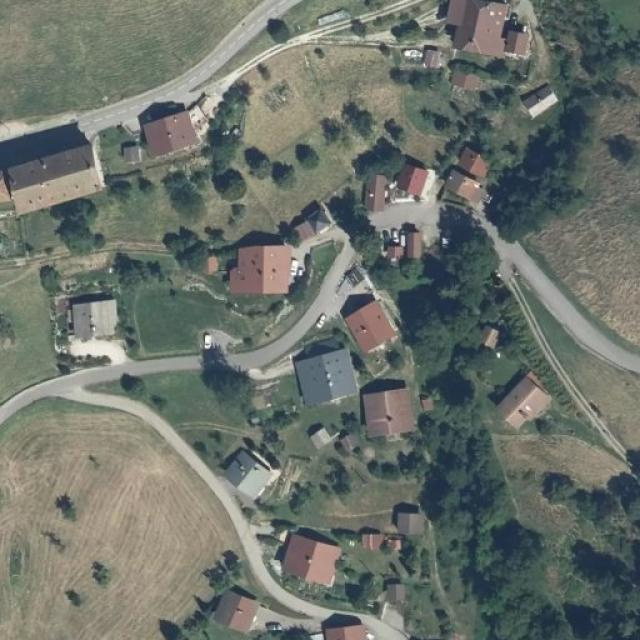immeuble: (0, 133, 113, 219)
maison: (425, 0, 543, 70), (224, 232, 300, 298), (292, 340, 358, 408), (216, 440, 281, 502), (490, 369, 550, 434), (62, 289, 128, 345), (328, 300, 398, 352), (136, 106, 203, 159), (359, 380, 417, 439), (443, 150, 494, 205), (287, 536, 342, 586), (208, 583, 258, 635), (392, 158, 427, 201), (394, 508, 431, 538), (363, 174, 389, 213), (408, 231, 422, 259)
